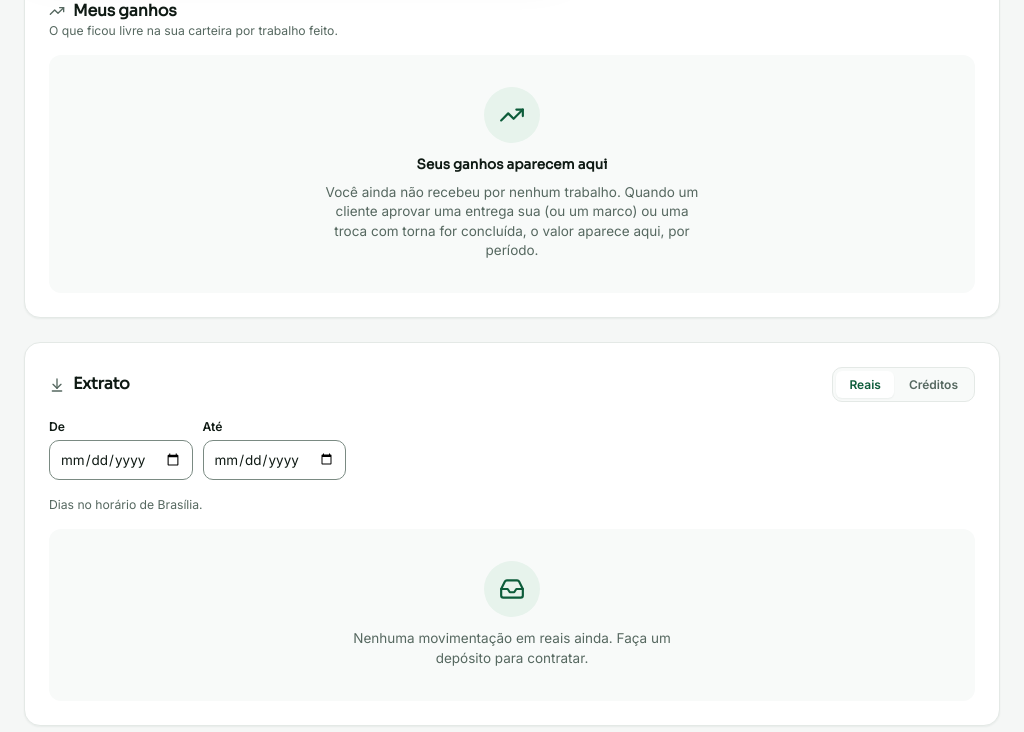
Test case: CarteiraView: saldos e estados › falha no extrato de créditos: o erro aparece na aba e "Tentar de novo" busca os créditos
(page scrolled)
Click the tab "Créditos": (933, 384) [896,371,971,398]
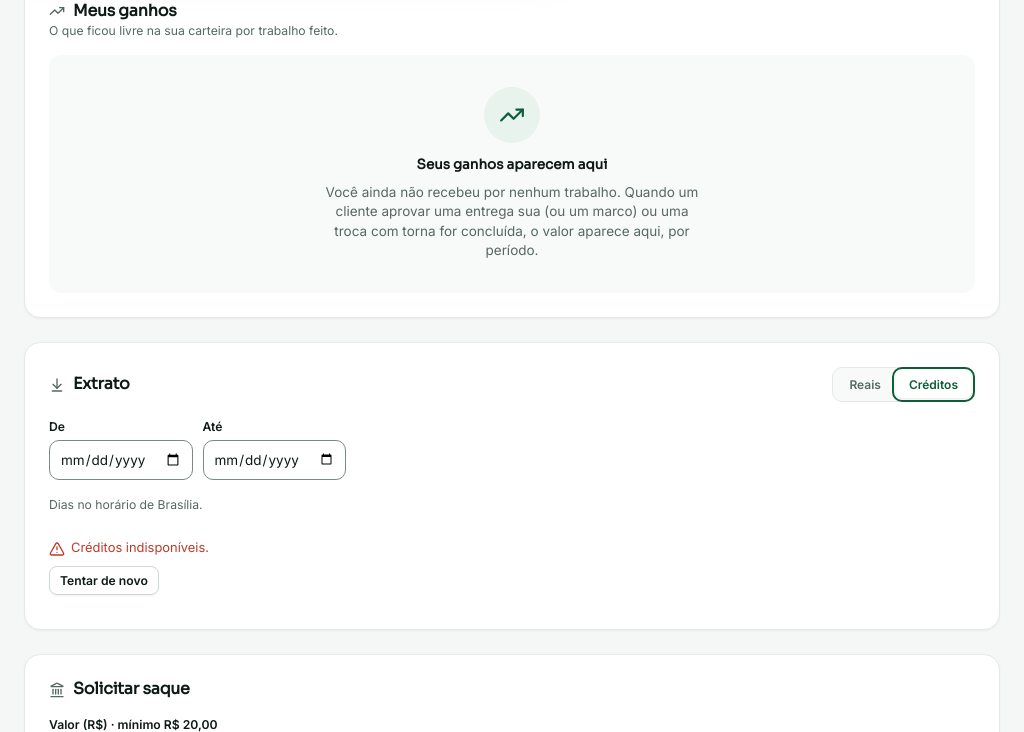
Expected: the message shows "Créditos indisponíveis.", [71,540,209,555]
Click the button "Tentar de novo": (104, 581) [49,566,159,595]
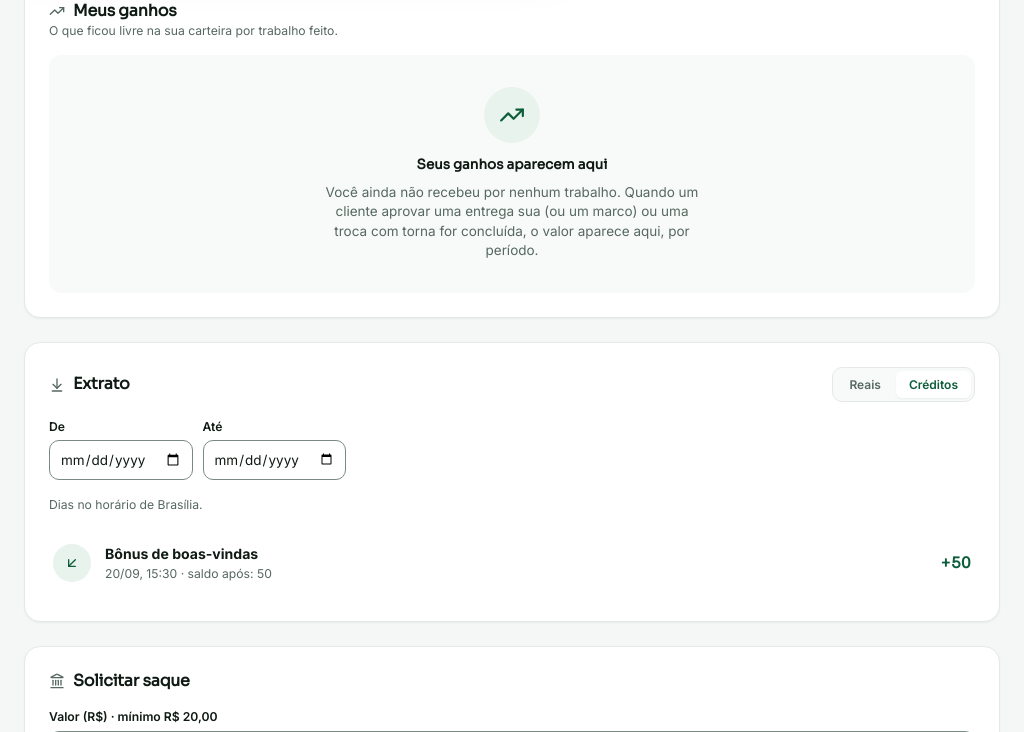
Expected: the text "Bônus de boas-vindas" is shown, [105,545,258,562]
